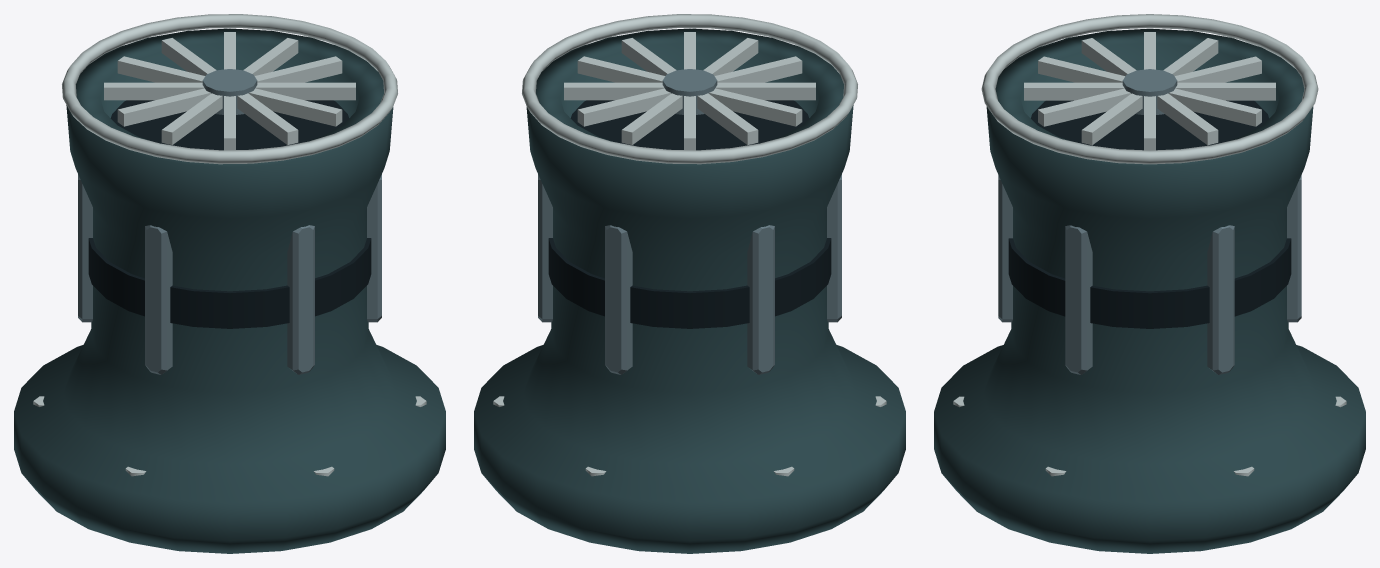
Rendered from steam-nozzle-ev02.glb.
3 renders of one model, left to right at view 1: azimuth 30°, elevation 25°; view 2: azimuth 150°, elevation 25°; view 3: azimuth 270°, elevation 25°, orthographic.
Visible parts, largest first — view 1: EV02_Visual_EV02_CeramicPaint, EV02_Visual_EV02_MachinedAlloy, EV02_Visual_EV02_Recesses, EV02_Visual_EV02_AnodizedFrame; view 2: EV02_Visual_EV02_CeramicPaint, EV02_Visual_EV02_MachinedAlloy, EV02_Visual_EV02_Recesses, EV02_Visual_EV02_AnodizedFrame; view 3: EV02_Visual_EV02_CeramicPaint, EV02_Visual_EV02_MachinedAlloy, EV02_Visual_EV02_Recesses, EV02_Visual_EV02_AnodizedFrame.
Boxes of the visible parts, x1,y1,x2,y2 form: EV02_Visual_EV02_CeramicPaint: [14, 28, 445, 553]; EV02_Visual_EV02_MachinedAlloy: [33, 14, 426, 476]; EV02_Visual_EV02_Recesses: [88, 100, 371, 328]; EV02_Visual_EV02_AnodizedFrame: [78, 69, 381, 374]; EV02_Visual_EV02_CeramicPaint: [474, 28, 905, 553]; EV02_Visual_EV02_MachinedAlloy: [493, 14, 886, 476]; EV02_Visual_EV02_Recesses: [548, 100, 831, 328]; EV02_Visual_EV02_AnodizedFrame: [538, 69, 841, 374]; EV02_Visual_EV02_CeramicPaint: [934, 28, 1365, 553]; EV02_Visual_EV02_MachinedAlloy: [953, 14, 1346, 476]; EV02_Visual_EV02_Recesses: [1008, 100, 1291, 328]; EV02_Visual_EV02_AnodizedFrame: [998, 69, 1301, 374].
Bounding box in the file's own units: 0.492 × 0.489 × 0.492.
